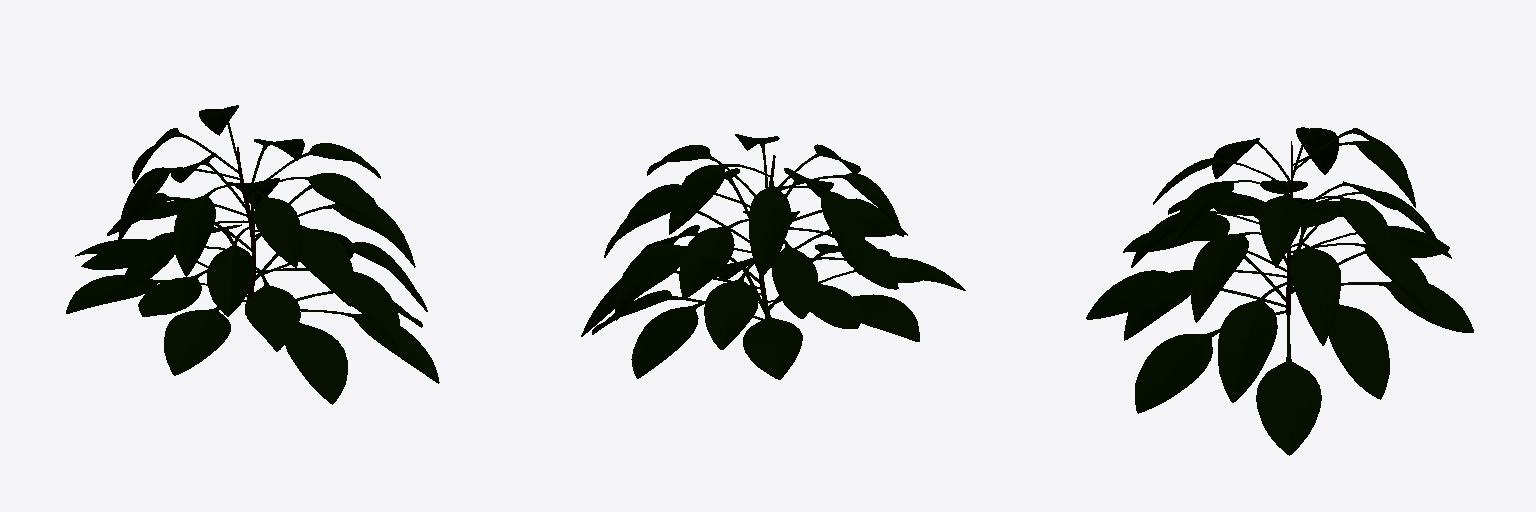
File: bush_r.obj
The picture shows the model from 3 angles: view 1: azimuth 30°, elevation 25°; view 2: azimuth 150°, elevation 25°; view 3: azimuth 270°, elevation 25°; orthographic projection.
Parts seen in each view (by area): view 1: leaf.001; view 2: leaf.001; view 3: leaf.001.
Part boxes in pixels (x1,y1,x2,y2): leaf.001: (66, 105, 439, 404); leaf.001: (581, 134, 965, 379); leaf.001: (1086, 127, 1473, 455).
Bounding box in the file's own units: 1.2 × 0.7819 × 1.18.